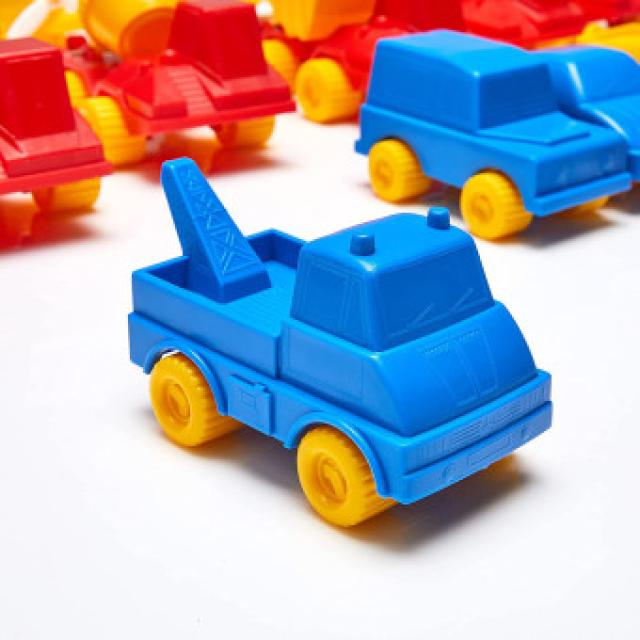Dry: (120, 160, 548, 540), (349, 32, 640, 234), (86, 0, 311, 182), (0, 29, 128, 264)
